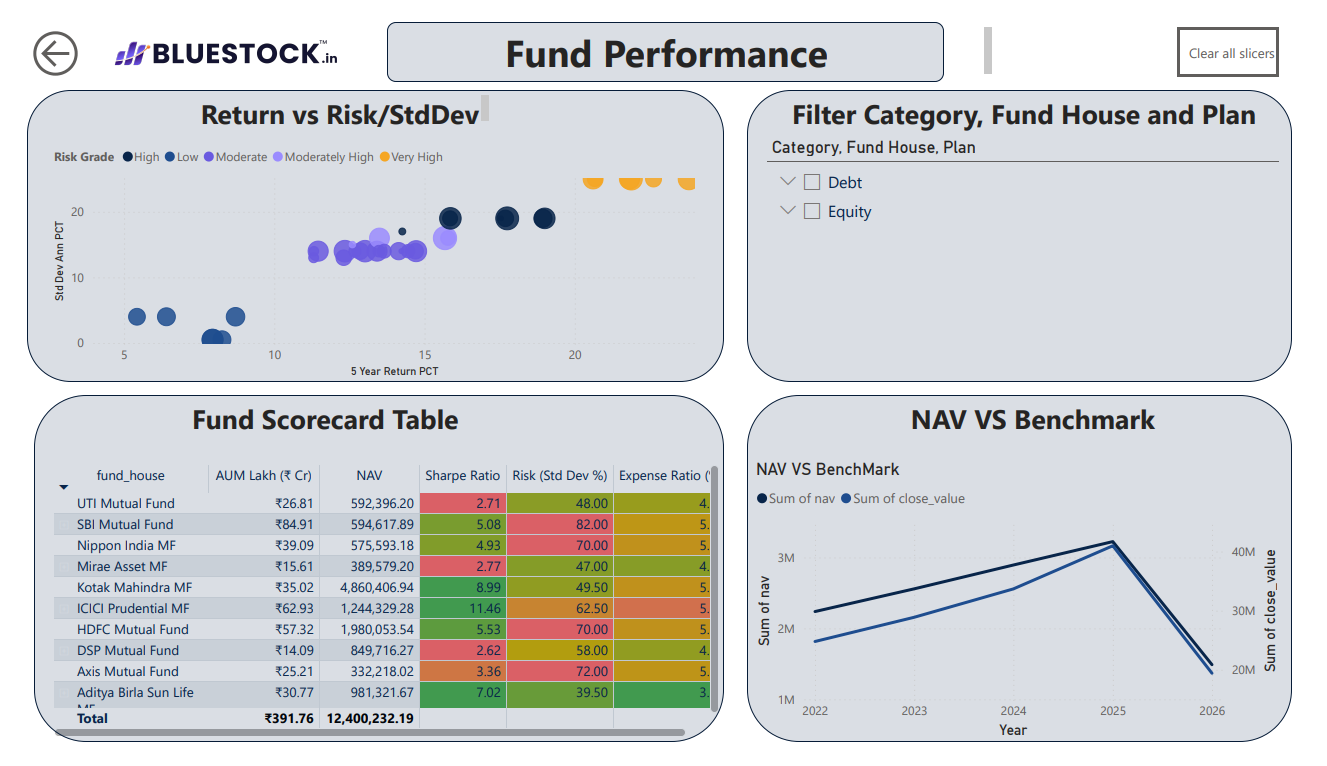

Layout of this report page (visuals, bound fields, positions):
{"tool":"powerbi","page":{"name":"Page 2 — Fund Performance","canvas":[1280,720],"ordinal":1},"visuals":[{"type":"shape","box":[362.5,0,557.5,60],"z":0},{"type":"shape","box":[723.3,373.3,545,346.7],"z":1000},{"type":"shape","box":[2.5,67.5,697.5,292.5],"z":2000},{"type":"shape","box":[722.5,67.5,545,292.5],"z":3000},{"type":"scatterChart","fields":{"X":["Sum(clean_performance.return_5yr_pct)"],"Y":["Sum(clean_performance.std_dev_ann_pct)"],"Size":["Sum(clean_performance.aum_crore)"],"Series":["clean_performance.risk_grade"],"Category":["clean_performance.scheme_name"]},"box":[25,115,658.3,245],"z":4000},{"type":"pivotTable","fields":{"Rows":["01_fund_master.fund_house","01_fund_master.category","01_fund_master.plan"],"Values":["Sum(03_aum_by_fund_house.aum_lakh_crore)","Sum(clean_nav.nav)","Sum(clean_performance.sharpe_ratio)","Sum(clean_performance.std_dev_ann_pct)","Sum(clean_performance.expense_ratio_pct)"]},"box":[25,437.5,675,282.5],"z":5000},{"type":"lineChart","title":"NAV VS BenchMark","fields":{"Category":["clean_nav.date.Variation.Date Hierarchy.Year","clean_nav.date.Variation.Date Hierarchy.Quarter","clean_nav.date.Variation.Date Hierarchy.Month","clean_nav.date.Variation.Date Hierarchy.Day"],"Y":["Sum(clean_nav.nav)"],"Y2":["Sum(10_benchmark_indices.close_value)"]},"box":[726.7,436.7,531.7,283.3],"z":6000},{"type":"slicer","title":"Category, Fund House, Plan","fields":{"Values":["01_fund_master.category","01_fund_master.fund_house","01_fund_master.plan"]},"box":[743.3,115,511.7,245],"z":8000},{"type":"shape","box":[10,373.3,690,346.7],"z":8500},{"type":"image","box":[85,0,235,60],"z":9000},{"type":"textbox","box":[320,0,652.5,57.5],"z":10000},{"type":"actionButton","box":[2.5,2.5,75,57.5],"z":11000},{"type":"textbox","box":[170,67.5,300,47.5],"z":12000},{"type":"textbox","box":[162.5,372.5,315,57.5],"z":13000},{"type":"textbox","box":[762.5,372.5,492.5,57.5],"z":14000},{"type":"textbox","box":[762.5,67.5,505,47.5],"z":15000},{"type":"actionButton","box":[1152.5,5,102.5,50],"z":15001}]}

Visuals, with their boxes in screenshot pixels (x1, y1, x2, y2), scaled from the page's 1280x720 canvas onto the 1327x766 screenshot:
shape: (x1=376, y1=0, x2=954, y2=64)
shape: (x1=750, y1=397, x2=1315, y2=765)
shape: (x1=3, y1=72, x2=726, y2=383)
shape: (x1=749, y1=72, x2=1314, y2=383)
scatterChart - Sum(clean_performance.return_5yr_pct) x Sum(clean_performance.std_dev_ann_pct): (x1=26, y1=122, x2=708, y2=383)
pivotTable - 01_fund_master.fund_house x 01_fund_master.category: (x1=26, y1=465, x2=726, y2=765)
"NAV VS BenchMark" lineChart: (x1=753, y1=465, x2=1305, y2=765)
"Category, Fund House, Plan" slicer: (x1=771, y1=122, x2=1301, y2=383)
shape: (x1=10, y1=397, x2=726, y2=765)
image: (x1=88, y1=0, x2=332, y2=64)
textbox: (x1=332, y1=0, x2=1008, y2=61)
actionButton: (x1=3, y1=3, x2=80, y2=64)
textbox: (x1=176, y1=72, x2=487, y2=122)
textbox: (x1=168, y1=396, x2=495, y2=457)
textbox: (x1=790, y1=396, x2=1301, y2=457)
textbox: (x1=790, y1=72, x2=1314, y2=122)
actionButton: (x1=1195, y1=5, x2=1301, y2=59)
